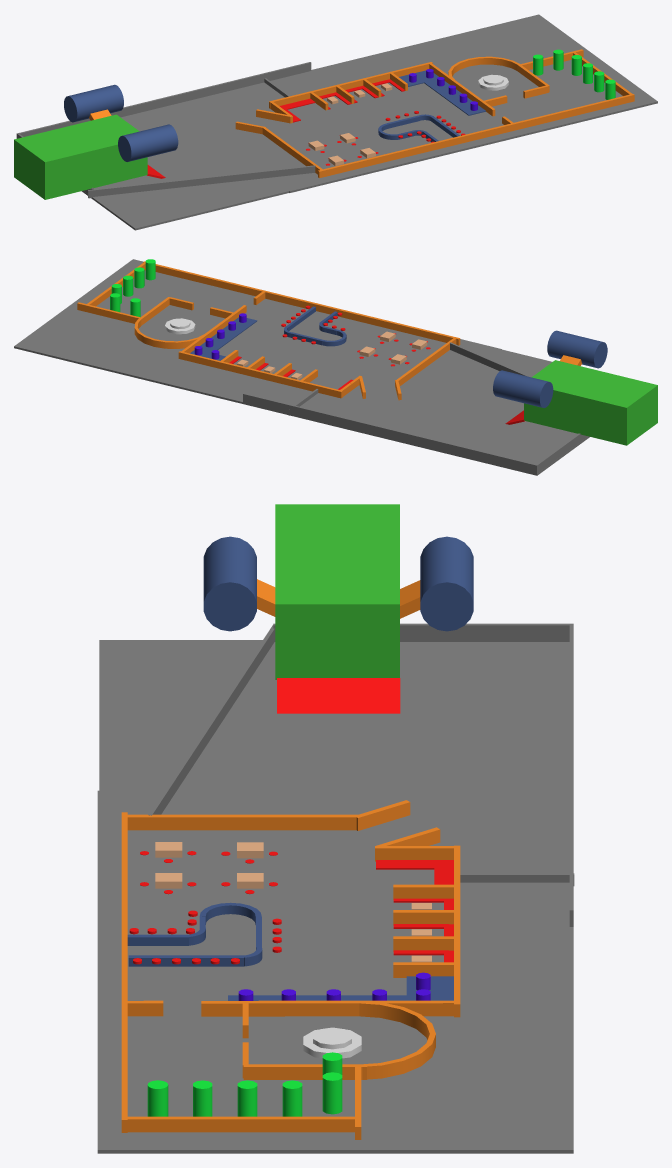
Rendered from Hub.fbx.
The picture shows the model from 3 angles, top to bottom: view 1: azimuth 30°, elevation 25°; view 2: azimuth 150°, elevation 25°; view 3: azimuth 270°, elevation 25°; orthographic projection. The views are drawn at different scales.
Visible parts, largest first — view 1: Box169, Box042, Box171, Box176, Cylinder084, Cylinder008, Box059, Box041, Box134, Box142, Cylinder015, Cylinder050; view 2: Box169, Box042, Box171, Box176, Cylinder084, Cylinder008, Box041, Box059, Box142, Cylinder015, Cylinder050; view 3: Box169, Box042, Box171, Cylinder084, Box176, Box172, Cylinder008, Box041, Box134, Box142, Box059, Cylinder050 (+2 smaller).
Boxes of the visible parts, x1=… form: Box169: x1=82, y1=14, x2=657, y2=230; Box042: x1=235, y1=49, x2=634, y2=178; Box171: x1=14, y1=114, x2=147, y2=199; Box176: x1=16, y1=62, x2=315, y2=198; Cylinder084: x1=64, y1=84, x2=178, y2=161; Cylinder008: x1=533, y1=49, x2=615, y2=99; Box059: x1=399, y1=70, x2=485, y2=115; Box041: x1=378, y1=114, x2=459, y2=141; Box134: x1=279, y1=79, x2=404, y2=122; Box142: x1=308, y1=133, x2=375, y2=165; Cylinder015: x1=409, y1=69, x2=477, y2=110; Cylinder050: x1=306, y1=111, x2=465, y2=165; Box169: x1=14, y1=259, x2=589, y2=475; Box042: x1=77, y1=261, x2=460, y2=400; Box171: x1=524, y1=360, x2=657, y2=445; Box176: x1=243, y1=342, x2=587, y2=473; Cylinder084: x1=493, y1=330, x2=607, y2=407; Cylinder008: x1=110, y1=259, x2=155, y2=317; Box041: x1=284, y1=306, x2=346, y2=346; Box059: x1=190, y1=317, x2=257, y2=360; Box142: x1=359, y1=331, x2=427, y2=364; Cylinder015: x1=194, y1=313, x2=246, y2=359; Cylinder050: x1=281, y1=305, x2=430, y2=366; Box169: x1=97, y1=640, x2=573, y2=1153; Box042: x1=121, y1=800, x2=460, y2=1139; Box171: x1=275, y1=504, x2=399, y2=679; Cylinder084: x1=203, y1=536, x2=473, y2=631; Box176: x1=148, y1=623, x2=574, y2=926; Box172: x1=277, y1=678, x2=400, y2=713; Cylinder008: x1=147, y1=1052, x2=342, y2=1116; Box041: x1=127, y1=902, x2=262, y2=966; Box134: x1=376, y1=860, x2=453, y2=962; Box142: x1=155, y1=842, x2=263, y2=888; Box059: x1=228, y1=976, x2=453, y2=1000; Cylinder050: x1=129, y1=851, x2=281, y2=964.
Size of the model in its own units: 2628 by 288 by 954.
